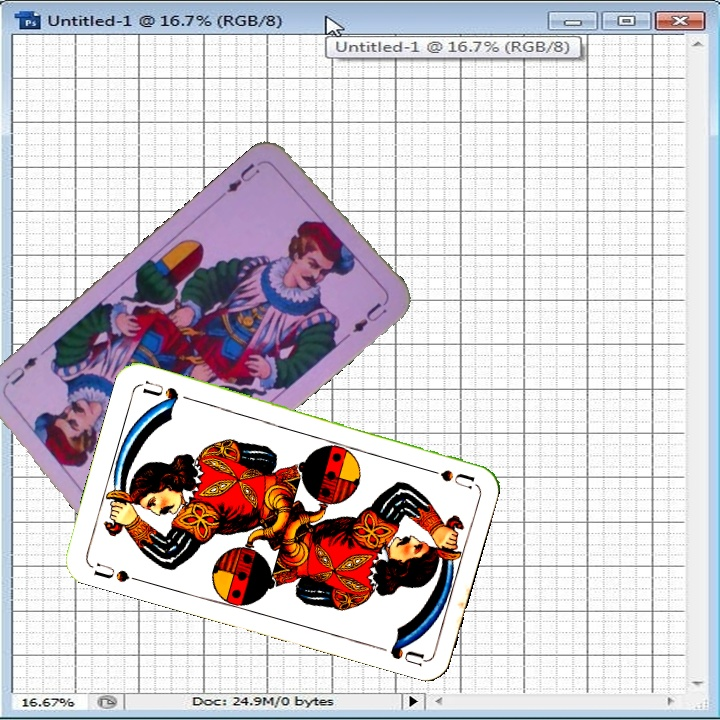EU: (223, 156, 269, 196)
SU: (417, 463, 476, 492), (90, 558, 145, 585)
